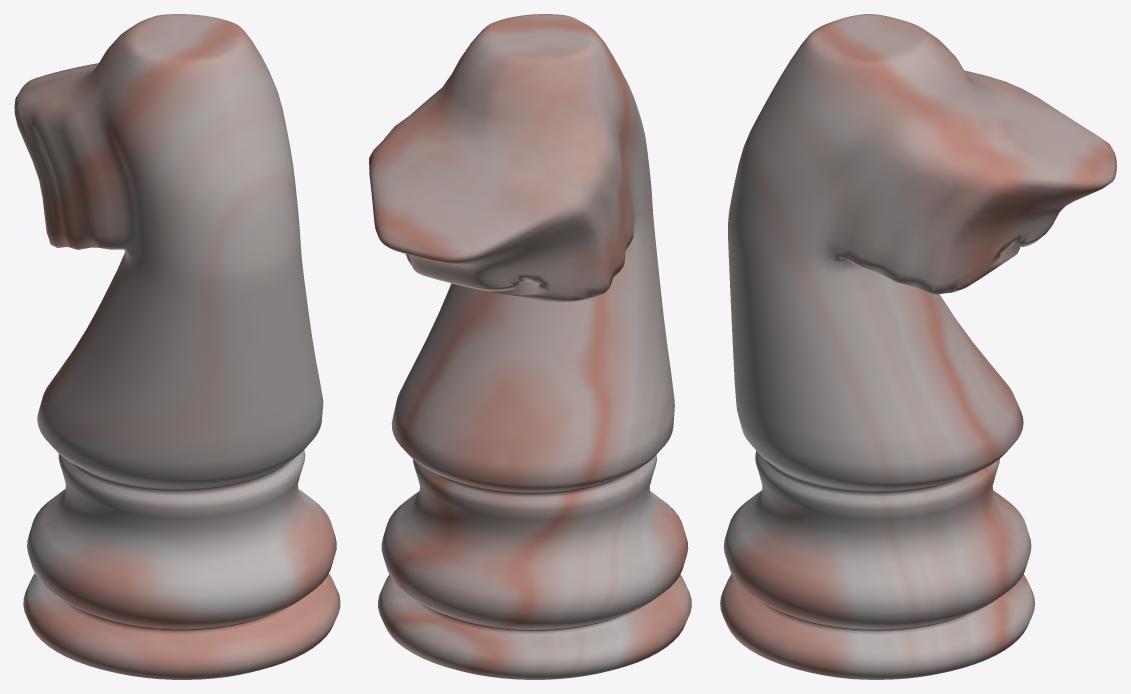
Rendered from whiteKnight.fbx.
The picture shows the model from 3 angles, left to right: view 1: azimuth 30°, elevation 25°; view 2: azimuth 150°, elevation 25°; view 3: azimuth 270°, elevation 25°; orthographic projection.
Parts seen in each view (by area): view 1: whiteKnight; view 2: whiteKnight; view 3: whiteKnight.
Boxes of the visible parts, x1,y1,x2,y2 form: whiteKnight: (14, 14, 340, 679); whiteKnight: (369, 14, 691, 679); whiteKnight: (720, 14, 1116, 679).
Size of the model in its own units: 67 by 138 by 84.39.
1 material, 1 textured.
